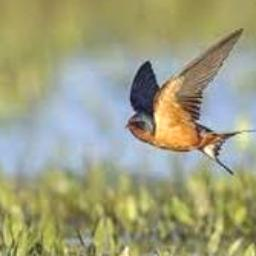Swallow: (126, 28, 256, 176)
